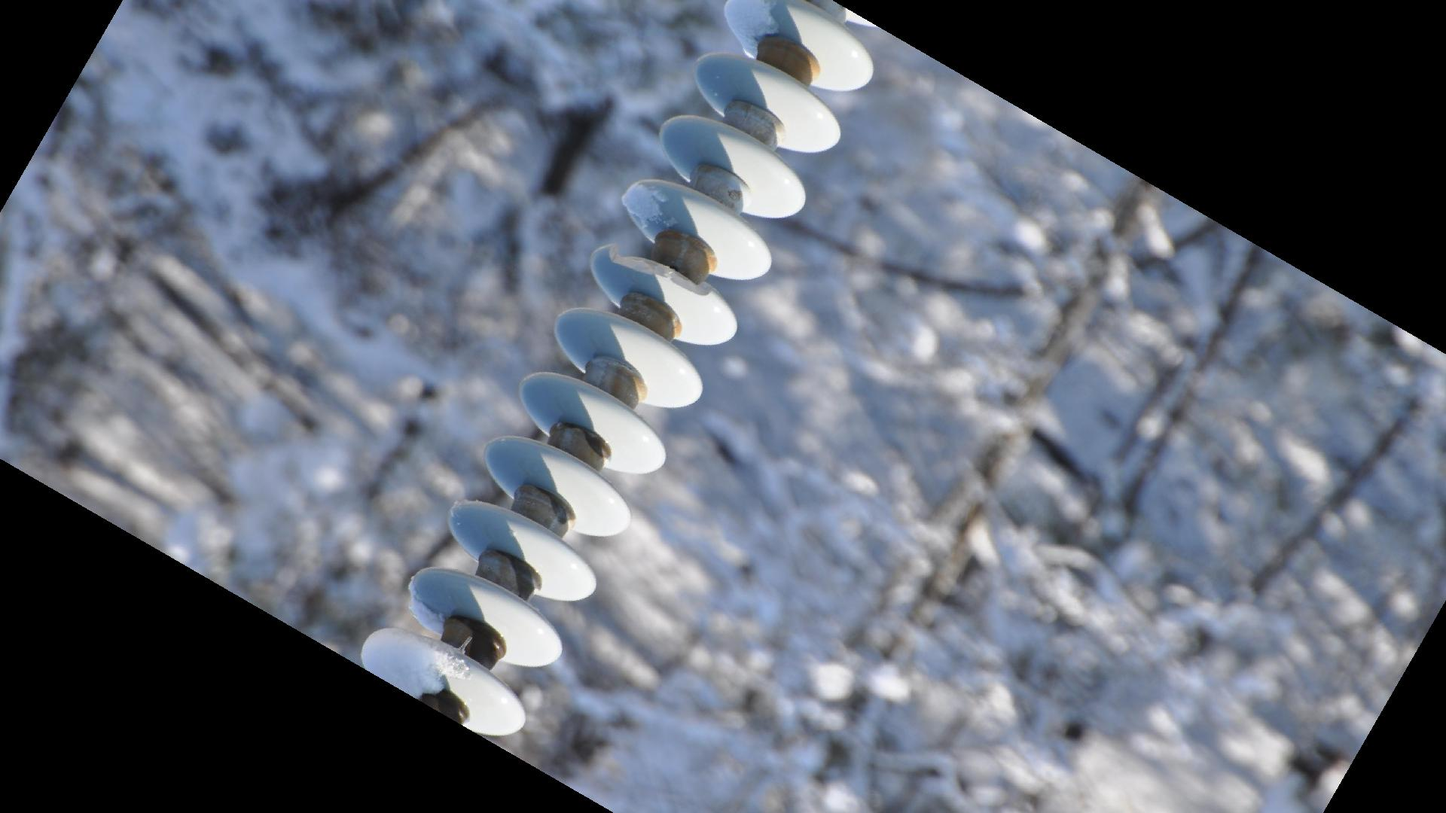insulator: (352, 1, 881, 748)
insulator_breakage: (596, 236, 718, 309)
